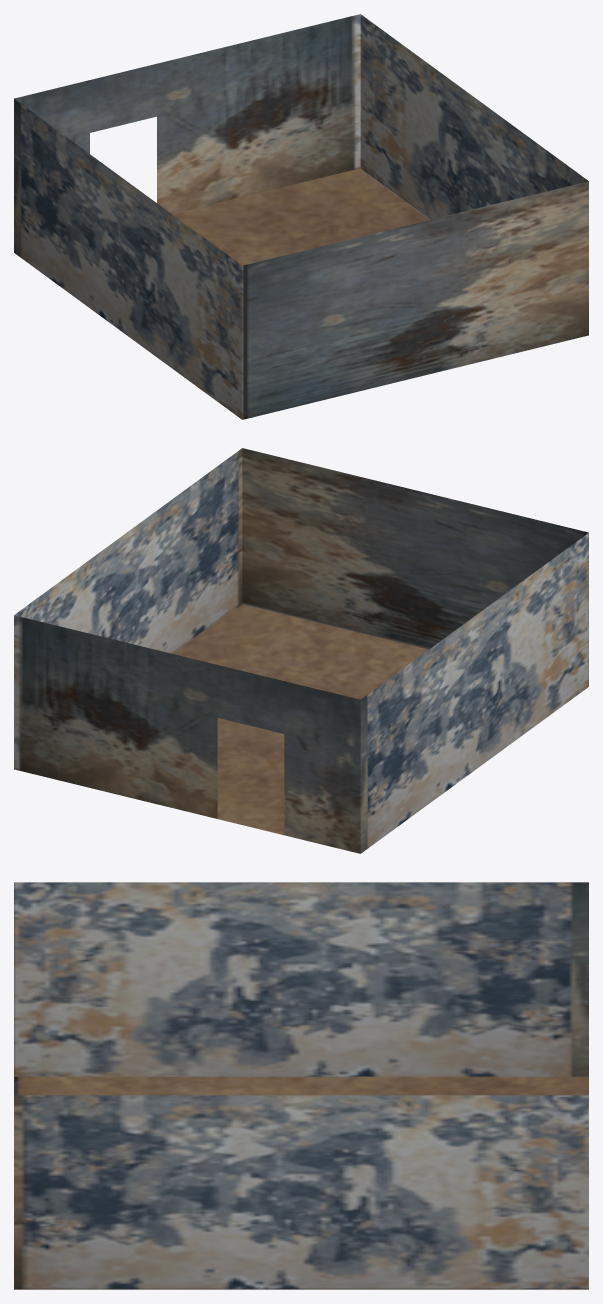
The model's file is AMainmenu.fbx.
3 renders of one model, top to bottom at view 1: azimuth 30°, elevation 25°; view 2: azimuth 150°, elevation 25°; view 3: azimuth 270°, elevation 25°, orthographic. The views are drawn at different scales.
Parts seen in each view (by area): view 1: Cube; view 2: Cube; view 3: Cube.
Part boxes in pixels (left/top/right/bottom): Cube: left=14, top=14, right=588, bottom=419; Cube: left=14, top=448, right=588, bottom=853; Cube: left=14, top=882, right=588, bottom=1289.
Bounding box in the file's own units: 515 × 219 × 587.
